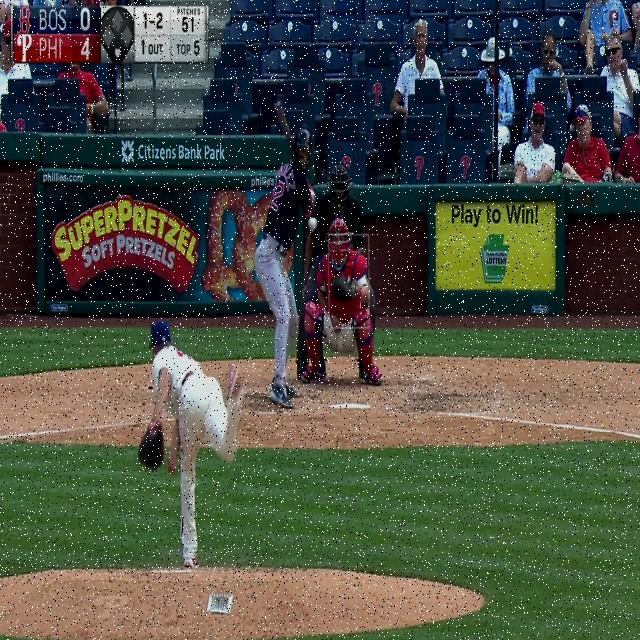baseball: (308, 217, 318, 232)
